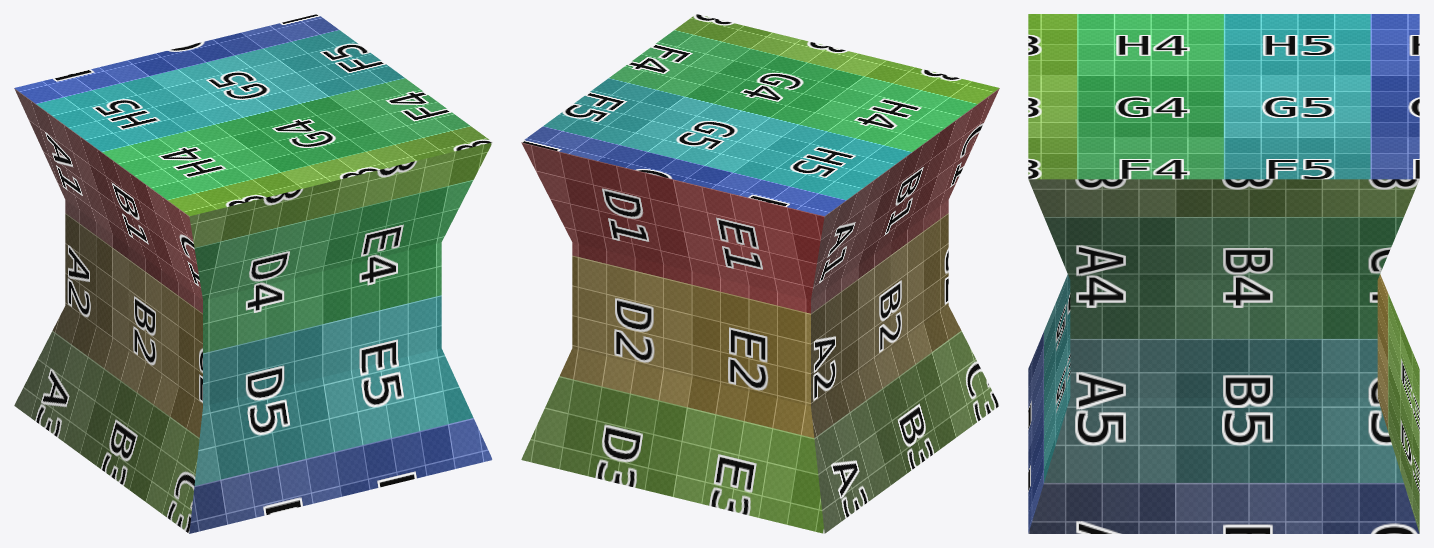
The model's file is emissiveCube.glb.
3 renders of one model, left to right at view 1: azimuth 30°, elevation 25°; view 2: azimuth 150°, elevation 25°; view 3: azimuth 270°, elevation 25°, orthographic. The views are drawn at different scales.
Parts seen in each view (by area): view 1: Cube; view 2: Cube; view 3: Cube.
Boxes of the visible parts, bbox=[...] form: Cube: bbox=[14, 14, 492, 533]; Cube: bbox=[521, 14, 999, 533]; Cube: bbox=[1028, 14, 1419, 533].
Size of the model in its own units: 2 by 2 by 2.
1 material, 1 textured.
